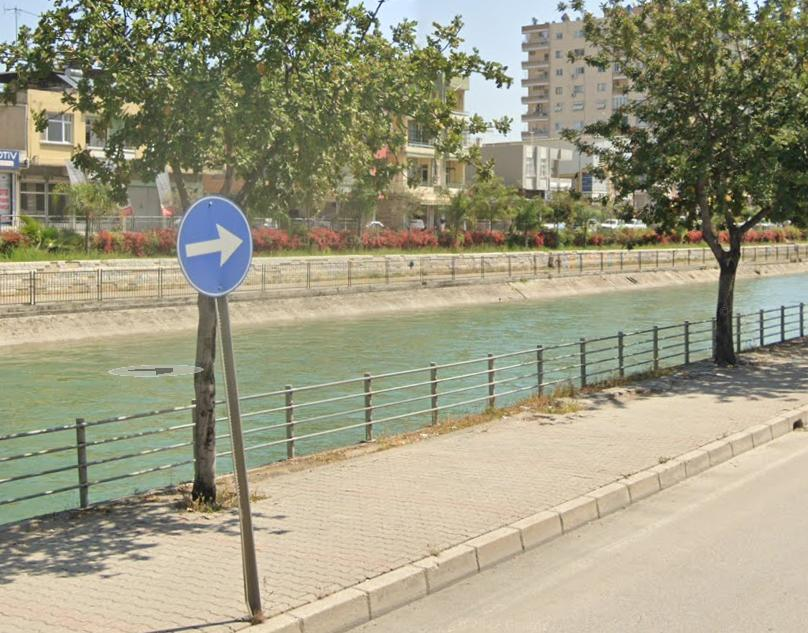turnright: (182, 204, 253, 286)
